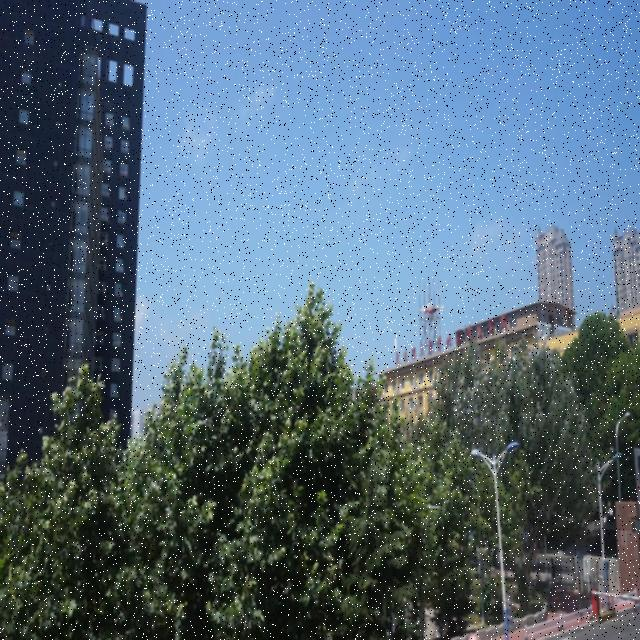UAV: (420, 303, 445, 319)
